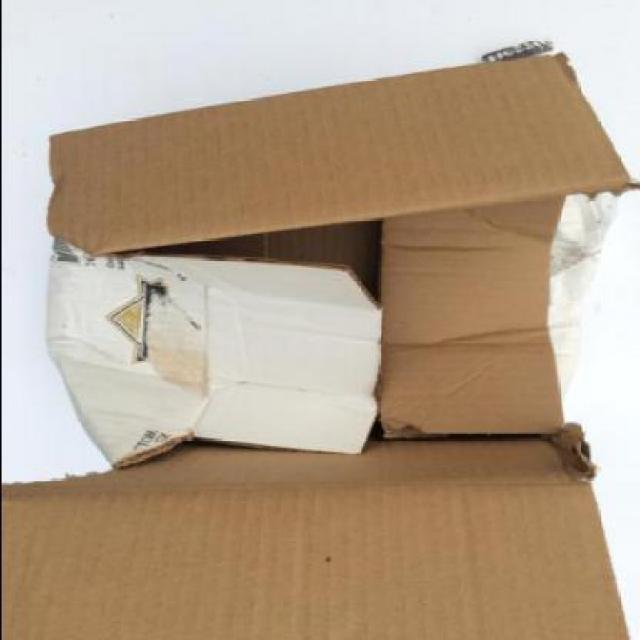box: (0, 55, 638, 639)
